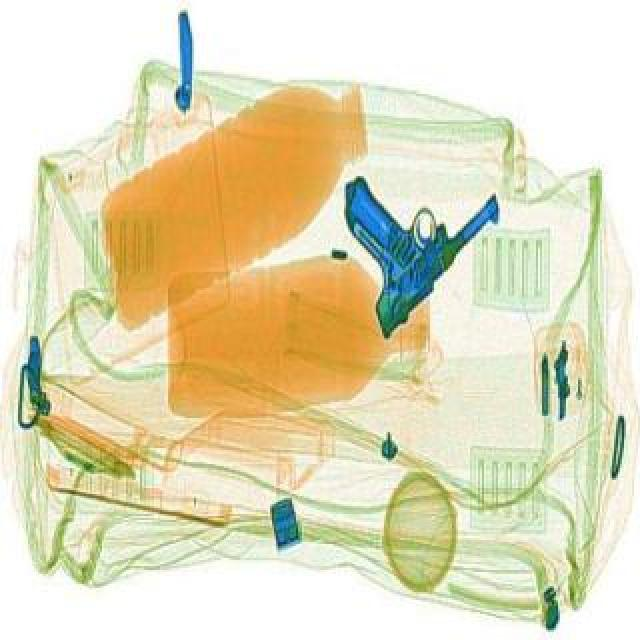gun: (302, 154, 502, 352)
